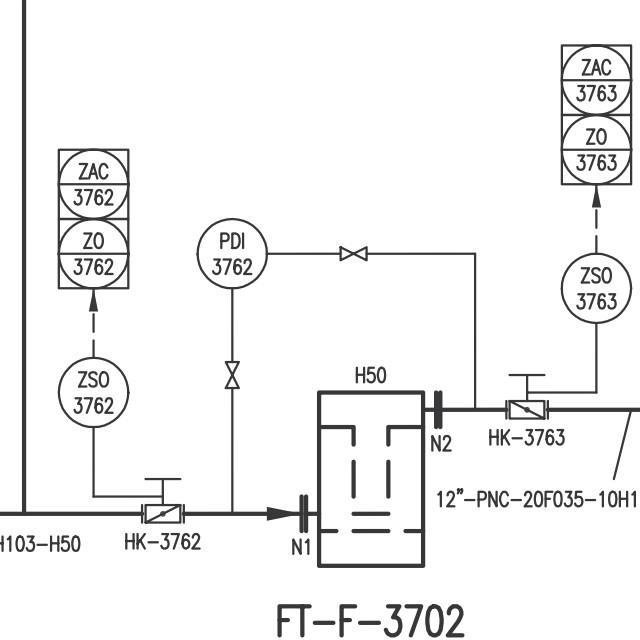BV: (137, 472, 190, 526), (499, 369, 553, 422)
FT1: (313, 382, 434, 569)
GV: (220, 357, 243, 394), (335, 240, 375, 261)
